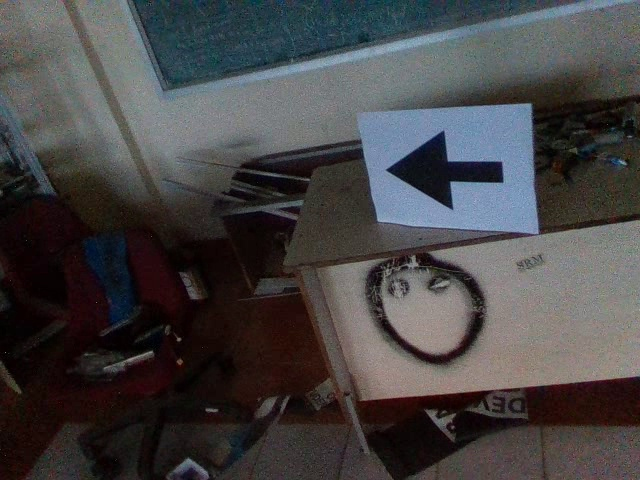Left: (383, 125, 511, 219)
